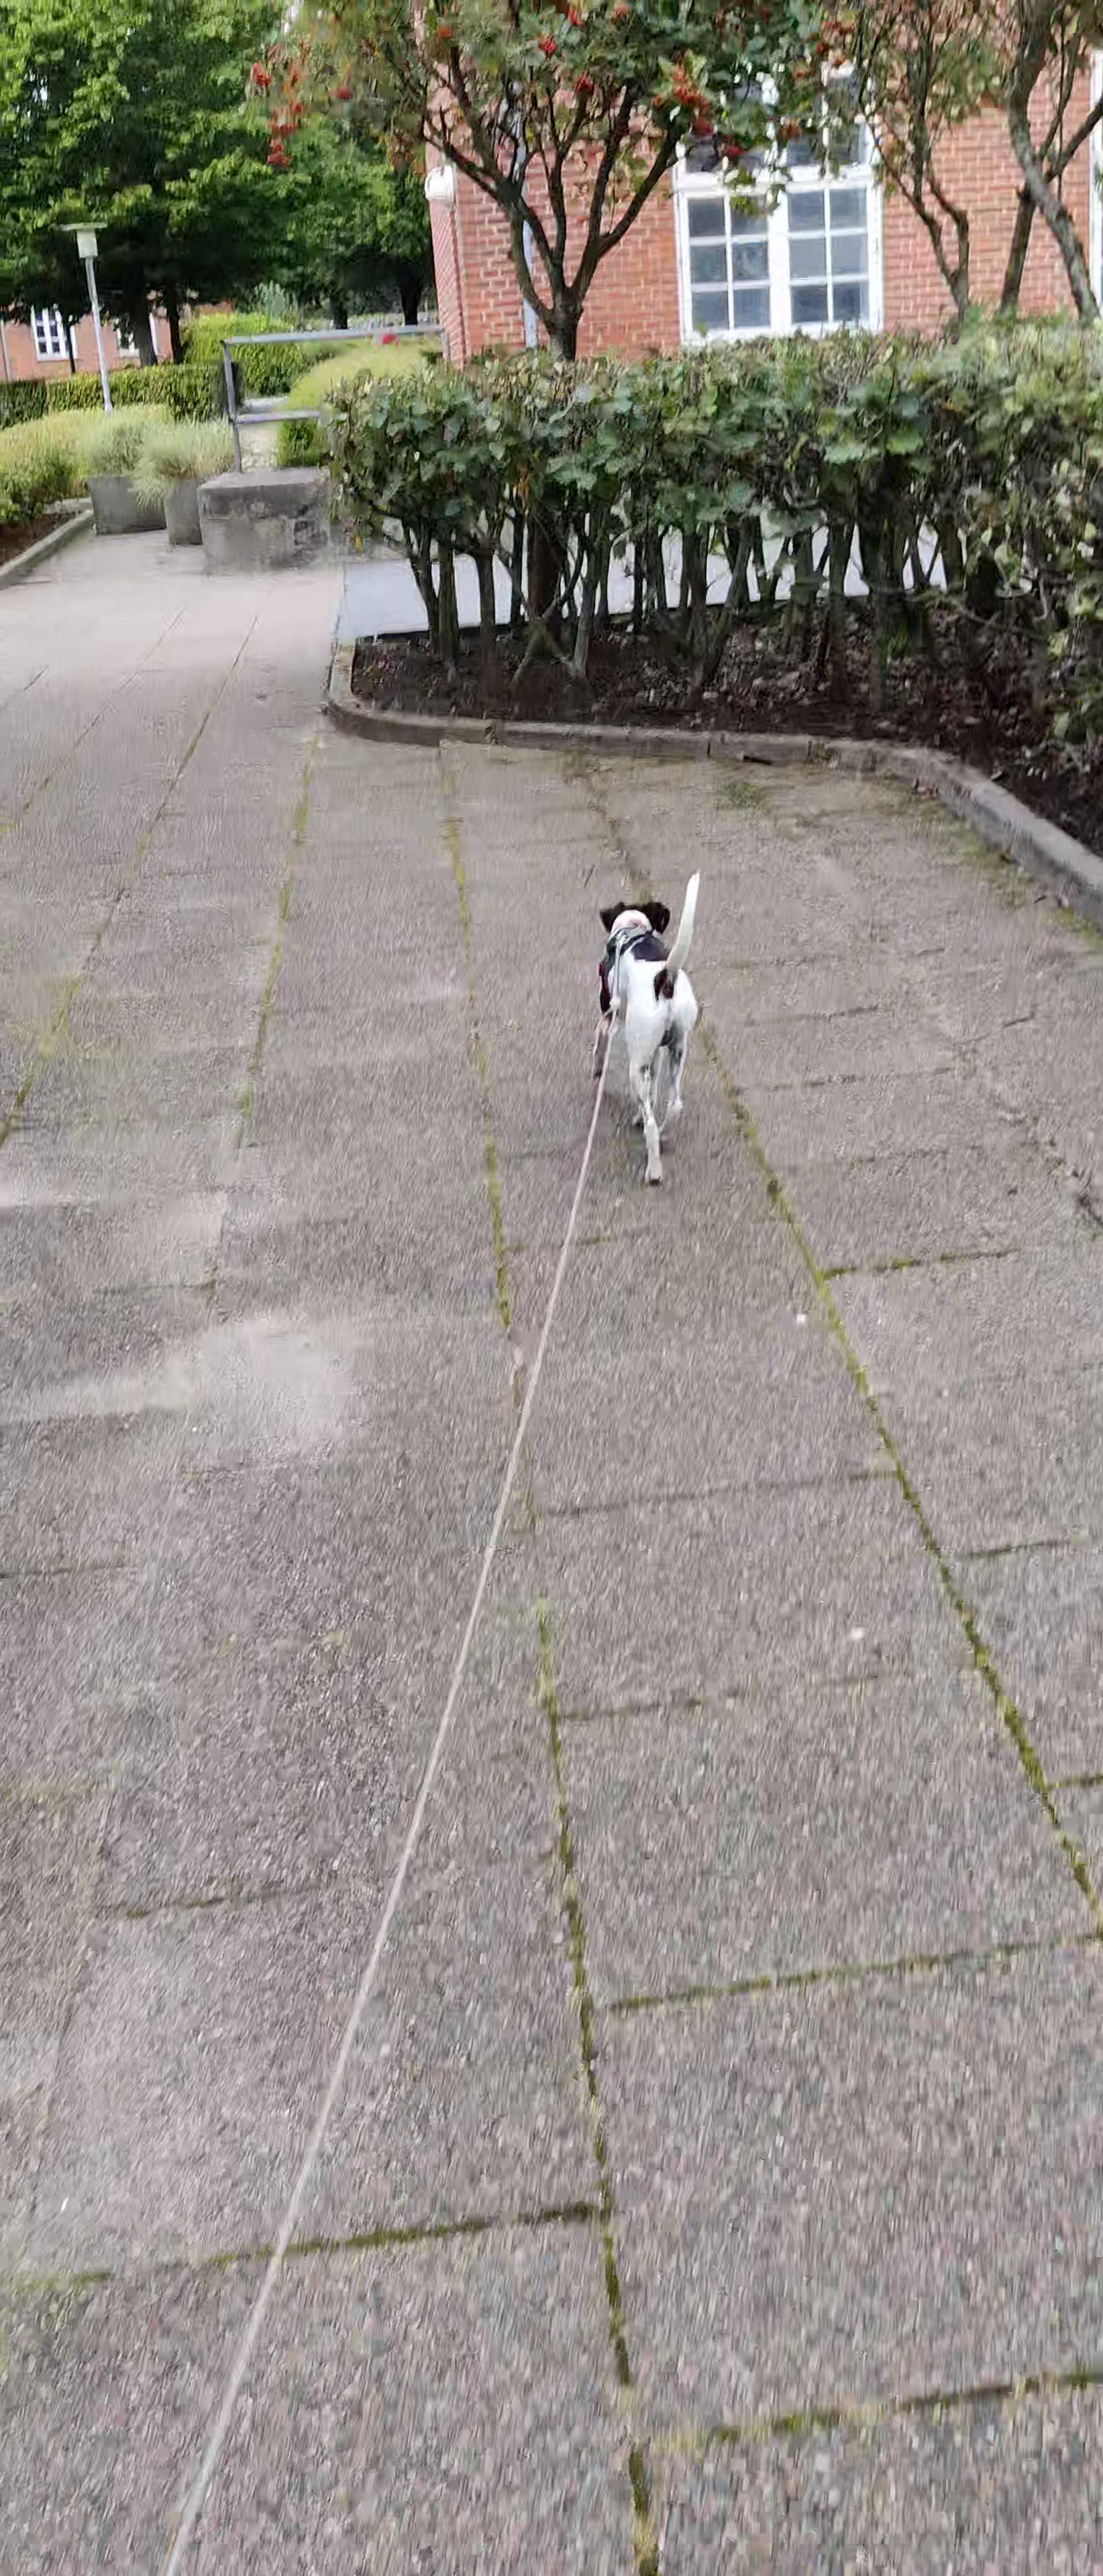Dog: (577, 861, 736, 1188)
